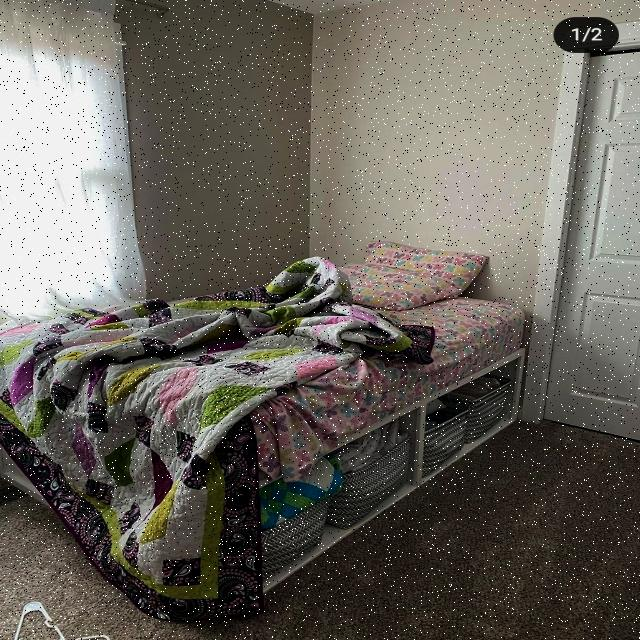bed: (26, 244, 526, 580)
